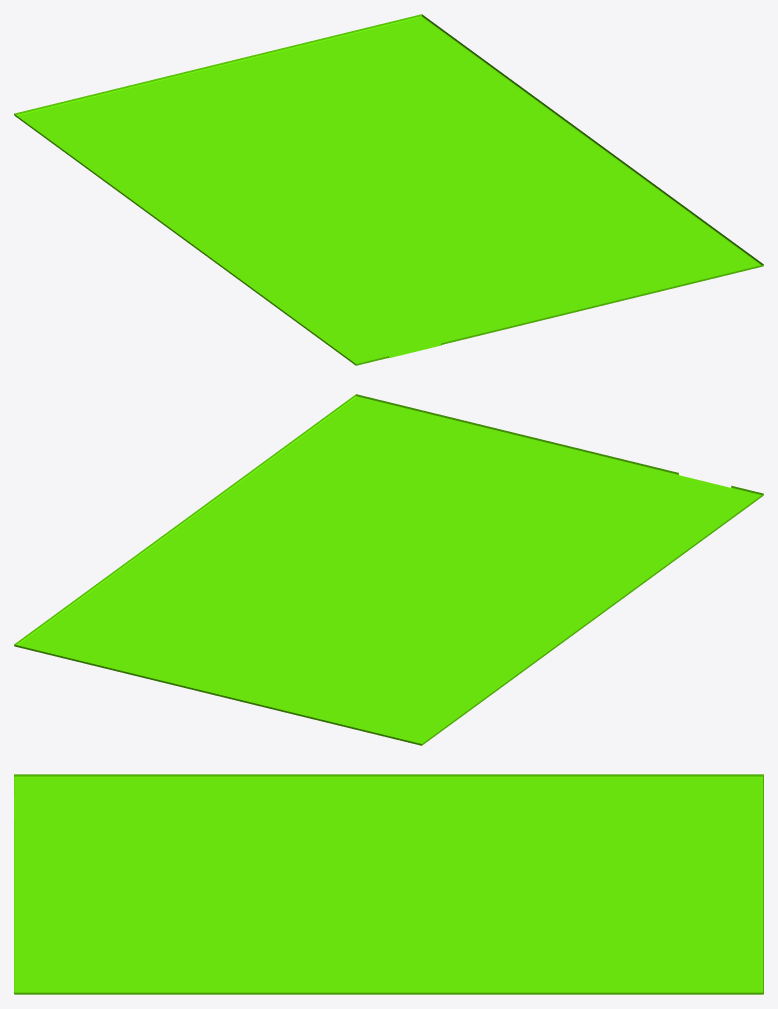
The model's file is Suelo.fbx.
The picture shows the model from 3 angles, top to bottom: view 1: azimuth 30°, elevation 25°; view 2: azimuth 150°, elevation 25°; view 3: azimuth 270°, elevation 25°; orthographic projection. The views are drawn at different scales.
Visible parts, largest first — view 1: Sala; view 2: Sala; view 3: Sala.
Part boxes in pixels (x1,y1,x2,y2): Sala: [14, 14, 763, 365]; Sala: [14, 394, 763, 745]; Sala: [14, 774, 763, 994].
Size of the model in its own units: 6.23 by 0.033 by 9.05.
